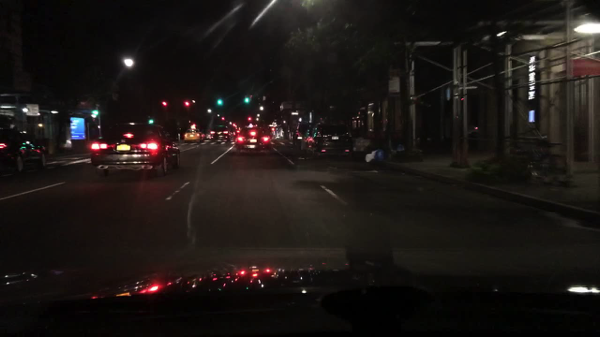car: (89, 122, 181, 178), (0, 123, 49, 178), (309, 120, 353, 160), (234, 124, 272, 153), (300, 122, 321, 151), (291, 120, 310, 147), (183, 128, 206, 144), (211, 125, 230, 143), (466, 123, 479, 140), (205, 131, 211, 140)
traffic light: (213, 98, 224, 109), (182, 98, 190, 112), (241, 95, 250, 106), (160, 101, 168, 109)
